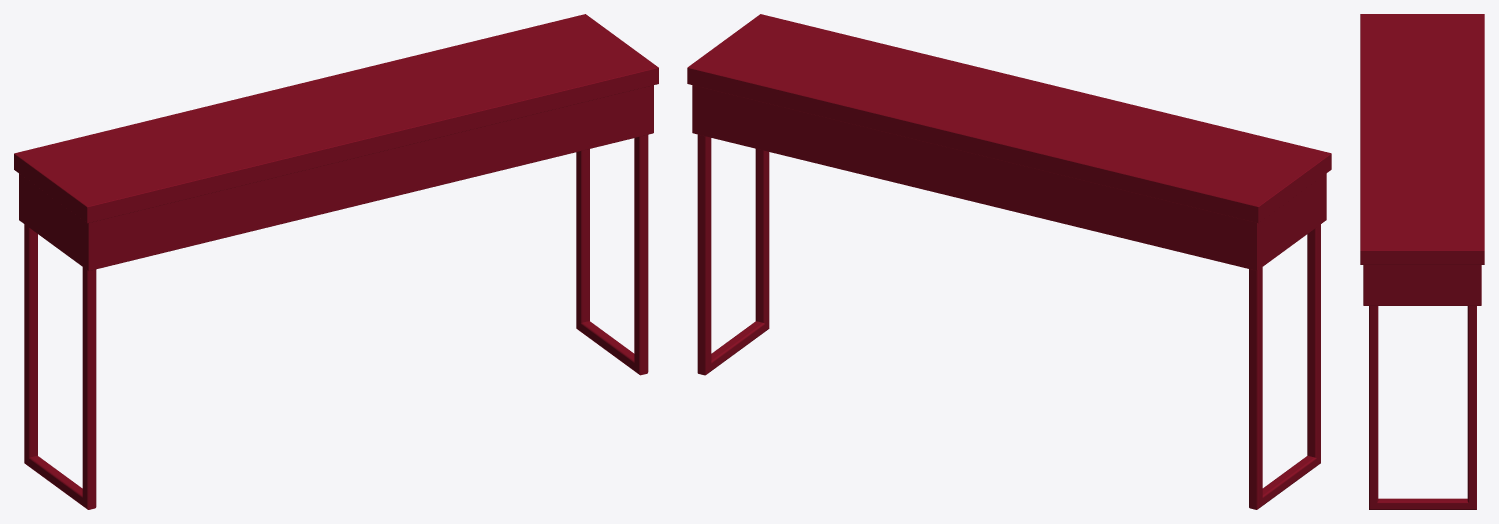
Rendered from IKEA-BESTA_BURS_workstation-3D.obj.
3 views of the same model, side by side, from view 1: azimuth 30°, elevation 25°; view 2: azimuth 150°, elevation 25°; view 3: azimuth 270°, elevation 25° (orthographic). The views are drawn at different scales.
Visible parts, largest first — view 1: Box001, ChamferBox002, Loft001, Loft002; view 2: Box001, ChamferBox002, Loft001, Loft002; view 3: Box001, Loft002, ChamferBox002.
Part boxes in pixels (box(x1,y1,x2,y2)): Box001: box(14, 14, 658, 223); ChamferBox002: box(19, 85, 653, 270); Loft001: box(24, 224, 96, 509); Loft002: box(576, 135, 648, 375); Box001: box(687, 14, 1331, 223); ChamferBox002: box(692, 85, 1326, 270); Loft001: box(1249, 224, 1320, 509); Loft002: box(697, 134, 769, 375); Box001: box(1360, 14, 1484, 264); Loft002: box(1369, 306, 1476, 509); ChamferBox002: box(1363, 265, 1481, 305).
Size of the model in its own units: 1800 by 927 by 400.
